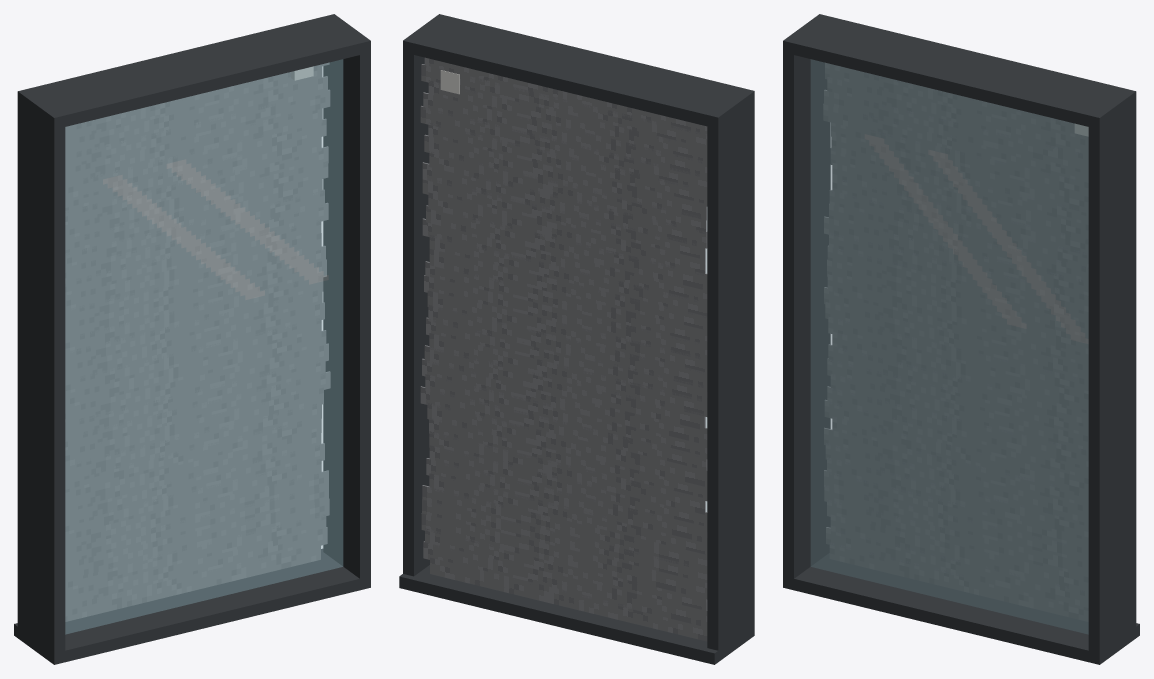
File: t_window_alarm_taped.glb
3 renders of one model, left to right at view 1: azimuth 30°, elevation 25°; view 2: azimuth 150°, elevation 25°; view 3: azimuth 330°, elevation 25°, orthographic.
Parts seen in each view (by area): view 1: block_sheet, block_stile-1, block_stile1, block_lintel, block_sill, block_tape3, block_tape14, block_tape0, block_tape8, block_tape17, block_tape22, block_tape11 (+28 smaller); view 2: block_stile-1, block_lintel, block_stile1, block_sill, block_tape3, block_tape30, block_tape33, block_tape11, block_tape18, block_tape16, block_tape25, block_tape28 (+29 smaller); view 3: block_sheet, block_stile1, block_stile-1, block_lintel, block_sill, block_tape19, block_tape11, block_tape32, block_tape29, block_tape7, block_tape2, block_tape22 (+28 smaller).
Part boxes in pixels (<box>): block_sheet: <box>65,59,343,634</box>; block_stile-1: <box>17,89,65,664</box>; block_stile1: <box>323,14,370,590</box>; block_lintel: <box>17,14,370,129</box>; block_sill: <box>14,548,370,664</box>; block_tape3: <box>65,499,329,579</box>; block_tape14: <box>65,343,328,421</box>; block_tape0: <box>65,543,320,621</box>; block_tape8: <box>65,430,321,508</box>; block_tape17: <box>65,302,324,381</box>; block_tape22: <box>65,233,321,311</box>; block_tape11: <box>65,387,323,466</box>; block_stile-1: <box>707,88,754,661</box>; block_lintel: <box>403,14,754,128</box>; block_stile1: <box>403,14,443,576</box>; block_sill: <box>399,565,754,664</box>; block_tape3: <box>421,513,707,599</box>; block_tape30: <box>424,134,706,220</box>; block_tape33: <box>423,92,707,178</box>; block_tape11: <box>427,402,707,486</box>; block_tape18: <box>428,304,707,388</box>; block_tape16: <box>429,333,707,416</box>; block_tape25: <box>426,205,707,290</box>; block_tape28: <box>422,162,707,248</box>; block_sheet: <box>810,59,1088,634</box>; block_stile1: <box>1088,90,1136,664</box>; block_stile-1: <box>783,14,830,590</box>; block_lintel: <box>783,14,1136,129</box>; block_sill: <box>783,553,1139,664</box>; block_tape19: <box>827,274,1088,353</box>; block_tape11: <box>827,386,1088,466</box>; block_tape32: <box>824,90,1088,170</box>; block_tape29: <box>831,134,1088,213</box>; block_tape7: <box>825,443,1088,522</box>; block_tape2: <box>830,514,1088,593</box>; block_tape22: <box>829,233,1088,311</box>.
Size of the model in its own units: 1 by 1.65 by 0.22.
Materials: 3 (3 with a texture image).
